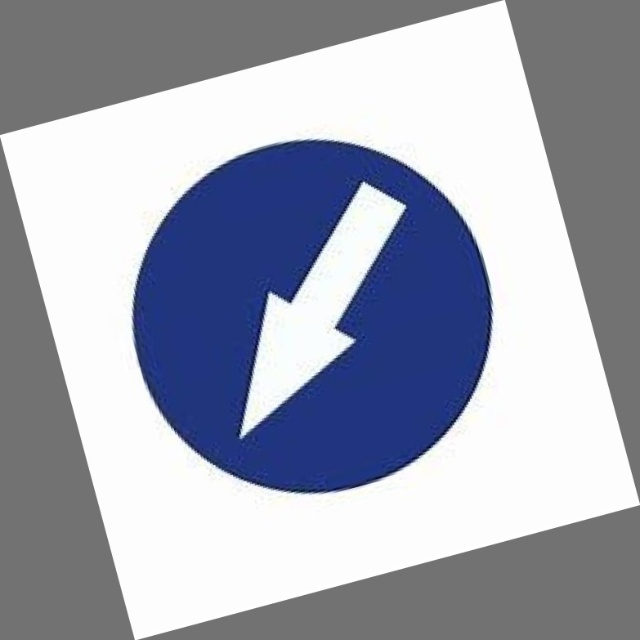R.301e: (84, 90, 538, 539)
